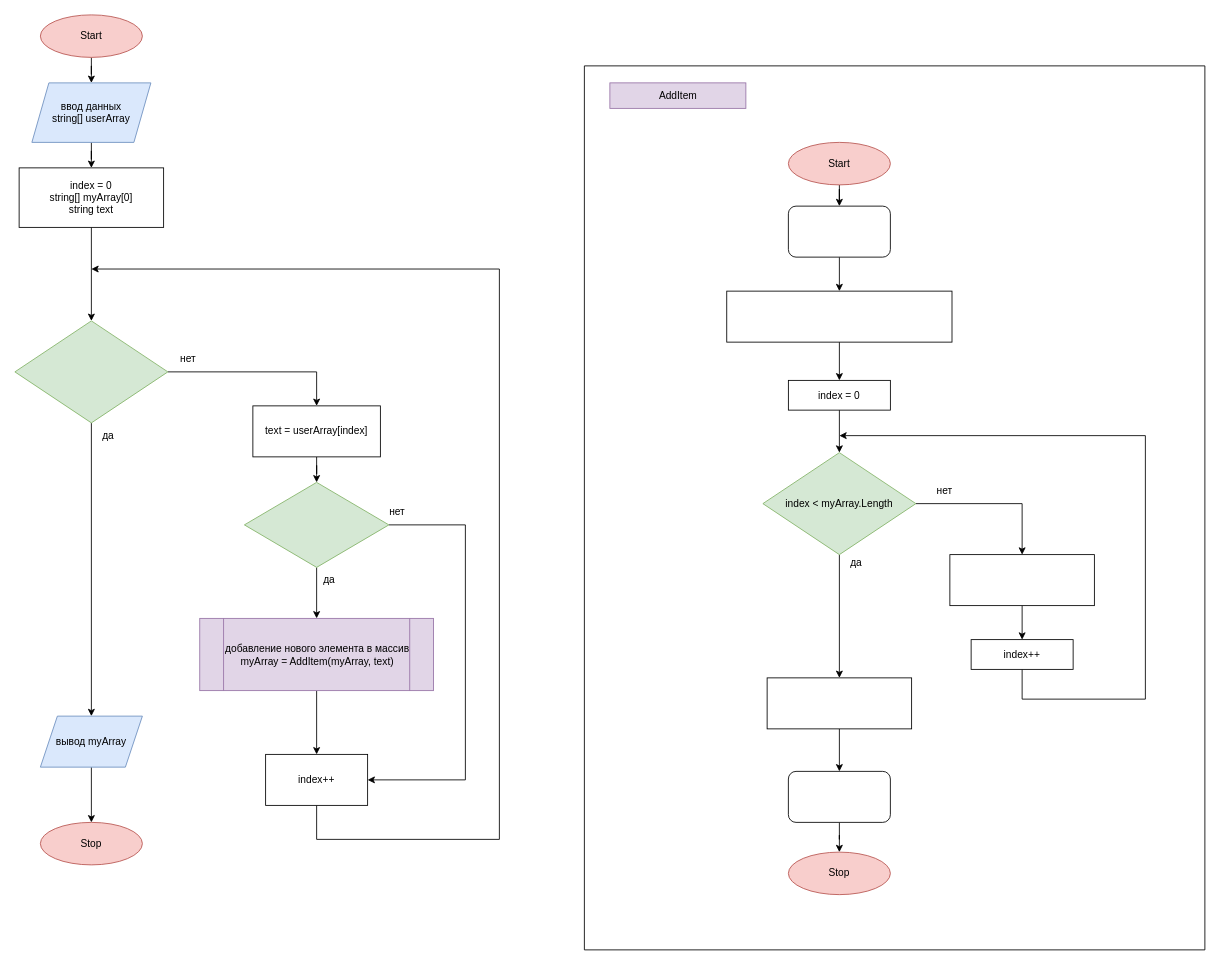
This 1220x965 diagram has some shape labels left out. The box of each missing label's shape, as (x1, y1, x2, y2) in pixels:
index < userArray.Length: (14, 320, 168, 423)
newArray[index] = myArray[index]: (949, 554, 1094, 606)
newArray[newArray.Length] = text: (766, 677, 912, 729)
return newArray: (788, 771, 890, 822)
string[] myArray string text: (788, 205, 890, 257)
string[] newArray[myArray.Length+1]: (726, 290, 952, 342)
text.Length <= 3: (244, 482, 389, 567)
